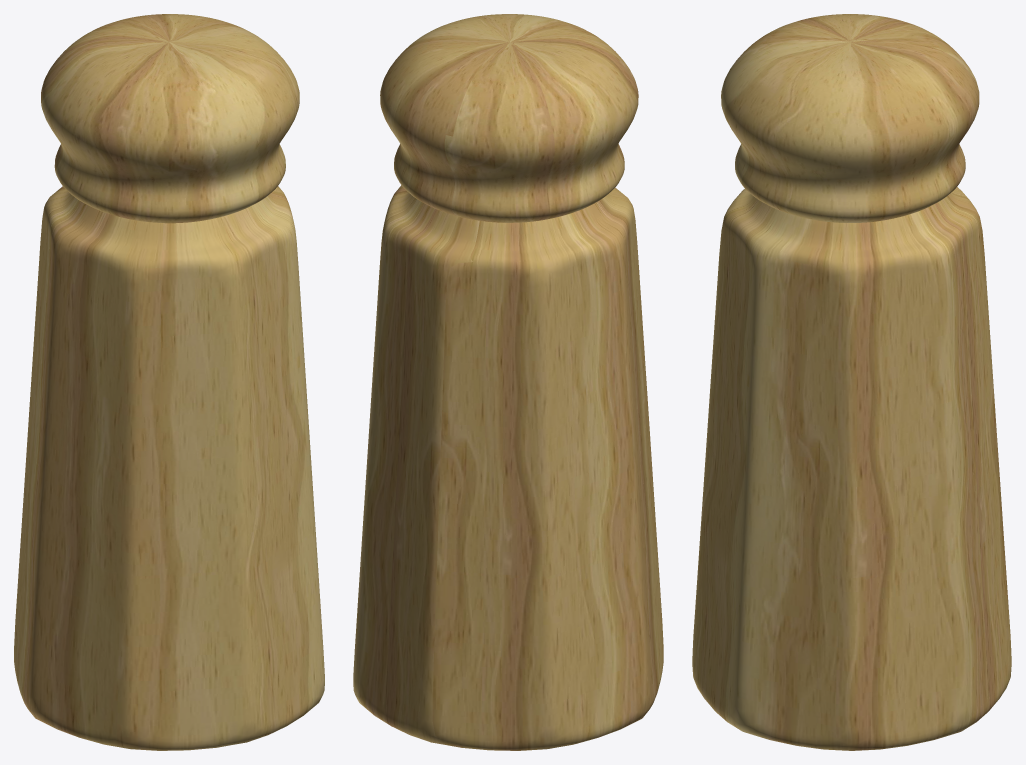
File: Salero.dae
3 views of the same model, side by side, from view 1: azimuth 30°, elevation 25°; view 2: azimuth 150°, elevation 25°; view 3: azimuth 270°, elevation 25° (orthographic).
Parts seen in each view (by area): view 1: Cuerpo1, Tapa; view 2: Cuerpo1, Tapa; view 3: Cuerpo1, Tapa.
Part boxes in pixels (<box>): Cuerpo1: <box>14,186,324,750</box>; Tapa: <box>41,14,299,223</box>; Cuerpo1: <box>353,185,663,750</box>; Tapa: <box>380,14,638,222</box>; Cuerpo1: <box>692,187,1011,750</box>; Tapa: <box>721,14,979,222</box>.
Size of the model in its own units: 0.4551 by 1.02 by 0.4551.
1 material, 1 textured.
